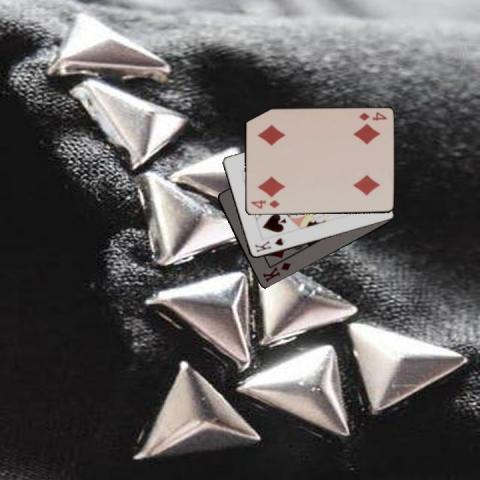4d: (248, 196, 281, 210), (356, 109, 388, 122)
Kd: (259, 259, 293, 284)
Ks: (252, 235, 286, 254)
